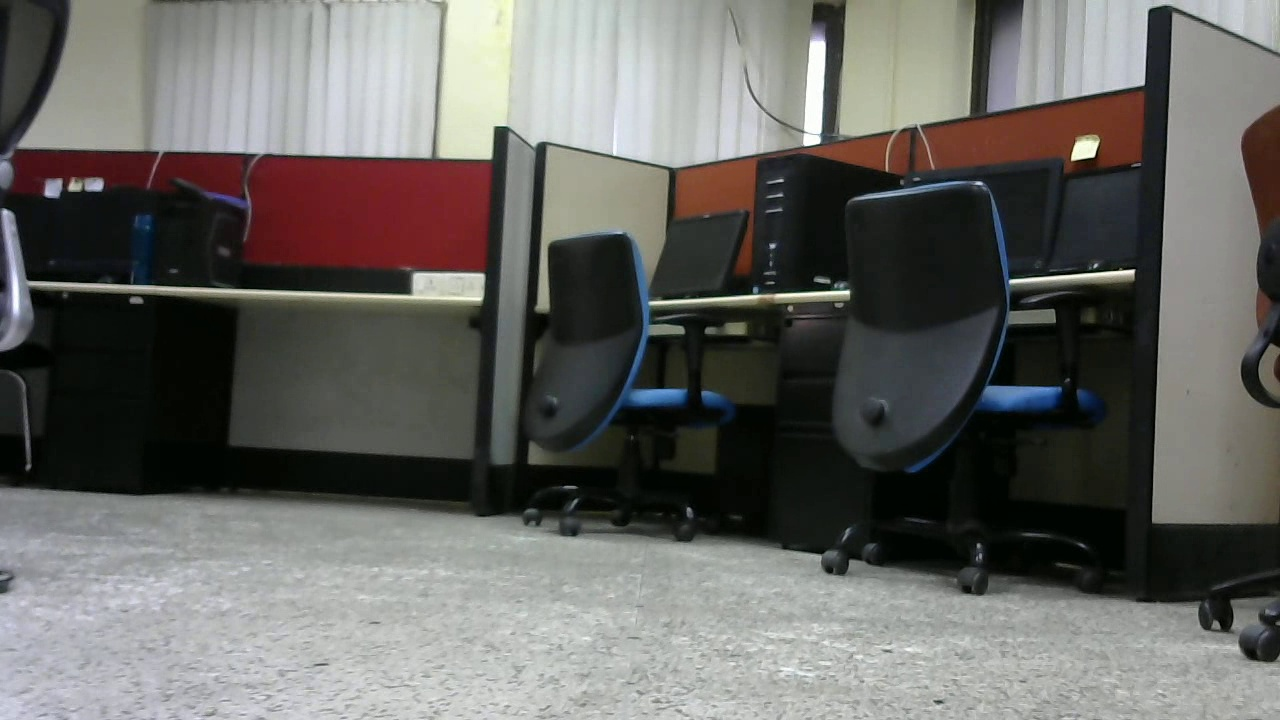chair: (816, 179, 1112, 598), (513, 216, 752, 546)
